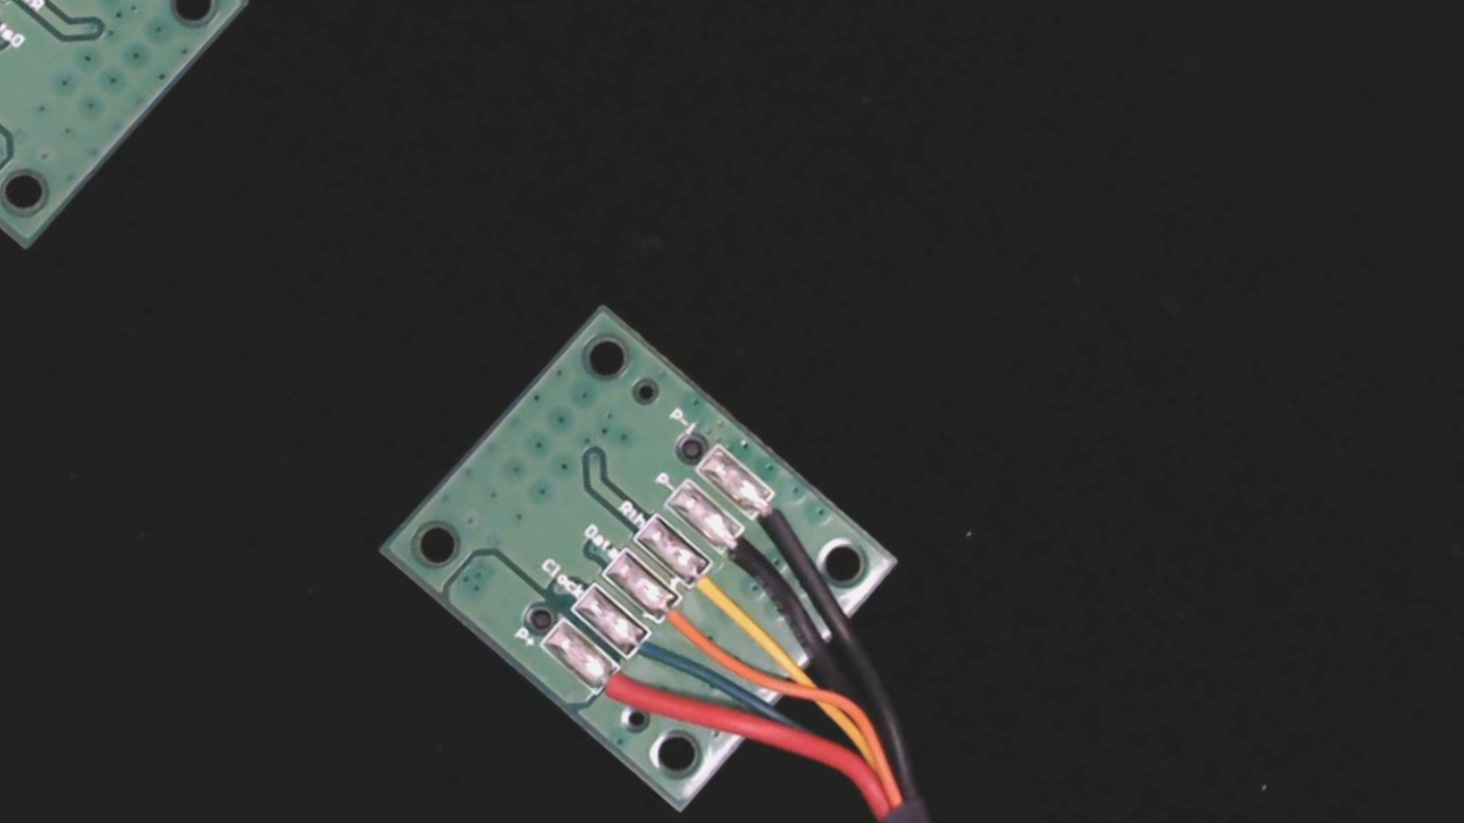Black: (704, 512, 782, 587)
Black1: (736, 478, 813, 552)
Green: (609, 616, 689, 692)
Orange: (640, 583, 727, 664)
Red: (578, 648, 665, 731)
Yellow: (675, 548, 756, 625)
